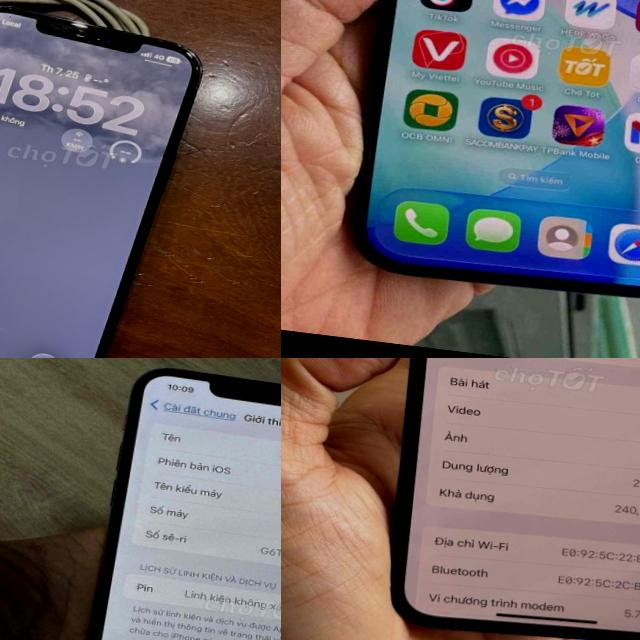gen_12_13: (367, 358, 640, 640), (0, 0, 206, 358)
gen_15: (331, 0, 640, 321)
gen_x_xs: (60, 358, 281, 640)
